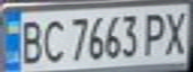3: (118, 11, 142, 58)
6: (103, 11, 127, 60), (87, 12, 109, 61)
7: (66, 14, 90, 62)
B: (15, 16, 45, 65)
C: (39, 16, 69, 64)
P: (139, 9, 172, 57)
X: (160, 7, 193, 56)
